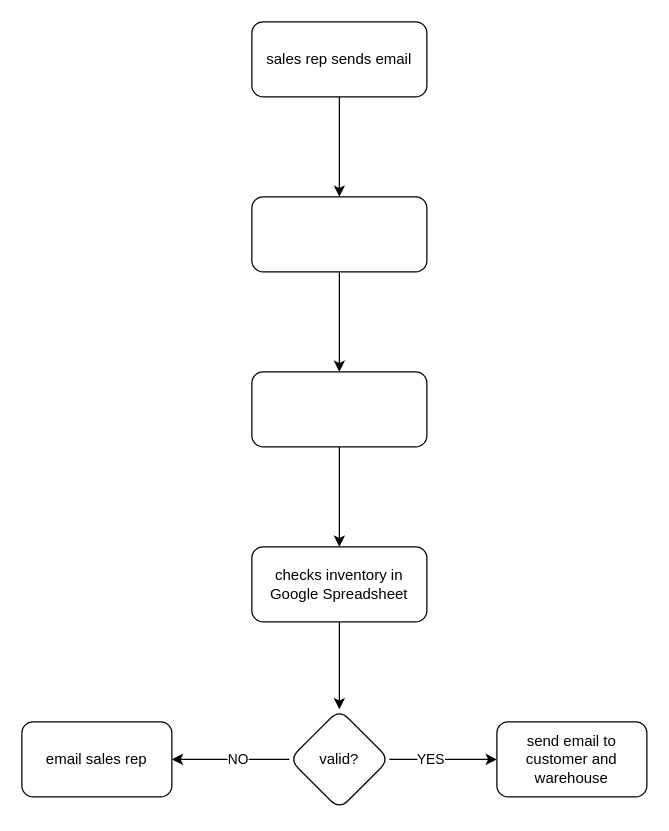
Some shapes in this 669 by 831 pixel diagram are drawn without their labels. The shapes that lost their labels are listed below. From the top down, each one's box as (x1, y1, x2, y2) in pixels, then its label:
(251, 196, 427, 272): ops team member reads pdf
(251, 371, 427, 447): checks customer's account status in Salesforce
